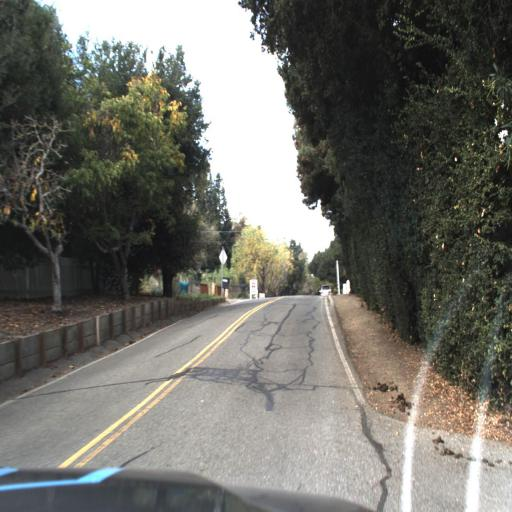car: (313, 276, 337, 308)
